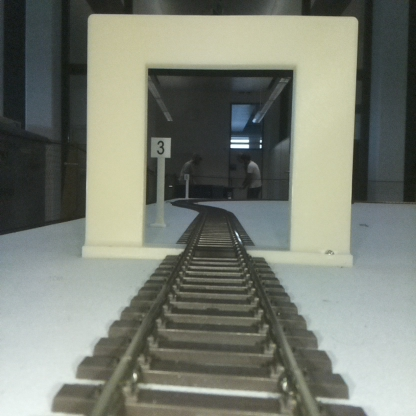white-info-3: (151, 137, 170, 226)
